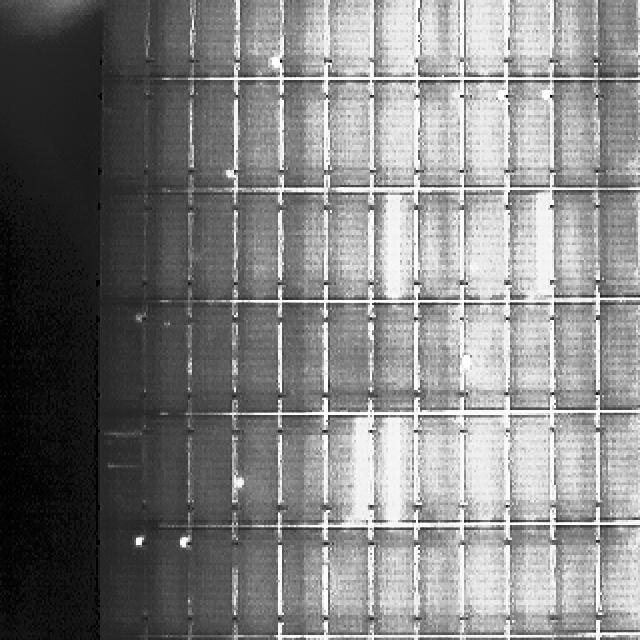Hotspots: (379, 416, 405, 530), (382, 188, 407, 306), (531, 190, 556, 299), (348, 416, 372, 527), (102, 456, 140, 474), (102, 426, 143, 442), (233, 472, 249, 495), (222, 164, 237, 182), (495, 88, 508, 104), (177, 534, 190, 550), (461, 351, 471, 371), (133, 534, 146, 549), (540, 90, 552, 103), (272, 56, 282, 71), (133, 312, 144, 325), (161, 319, 174, 328)
PV-modules: (415, 303, 465, 416), (234, 414, 283, 525), (100, 525, 149, 636), (141, 304, 189, 417), (232, 82, 281, 192), (278, 304, 326, 416), (186, 528, 235, 636), (550, 82, 598, 192), (550, 413, 598, 523), (278, 82, 326, 192), (505, 526, 553, 636), (144, 81, 191, 193), (505, 189, 552, 301), (188, 305, 235, 417), (550, 190, 598, 299), (235, 192, 283, 301), (414, 526, 462, 635), (415, 190, 462, 301), (235, 305, 282, 416), (191, 82, 238, 193), (550, 304, 598, 412), (278, 192, 326, 300), (414, 414, 462, 522), (278, 415, 325, 525), (143, 192, 190, 302), (141, 414, 188, 524), (188, 415, 235, 525), (462, 526, 509, 636), (143, 525, 190, 635), (462, 189, 508, 301), (278, 529, 326, 636), (100, 194, 147, 303), (369, 190, 415, 301), (326, 305, 372, 416), (504, 82, 551, 190), (551, 526, 598, 634), (415, 82, 462, 190), (232, 528, 279, 636), (462, 305, 509, 413), (326, 415, 372, 525), (102, 82, 148, 192), (100, 306, 146, 416), (189, 192, 235, 301), (506, 305, 552, 413), (505, 414, 551, 522), (327, 82, 372, 192), (369, 305, 414, 415), (464, 414, 510, 521), (374, 82, 419, 191), (373, 414, 418, 523), (326, 529, 372, 635), (464, 82, 509, 190), (327, 192, 372, 300), (373, 528, 418, 634), (598, 80, 640, 192), (598, 410, 640, 520), (598, 188, 640, 298), (598, 525, 640, 633), (600, 302, 640, 412), (102, 0, 150, 80), (326, 0, 372, 82), (278, 0, 326, 78), (506, 0, 554, 78), (190, 0, 238, 78), (370, 0, 416, 80), (238, 0, 284, 80), (550, 0, 596, 78), (416, 0, 462, 78), (460, 0, 506, 78), (148, 0, 194, 78), (598, 0, 640, 80), (100, 461, 145, 529), (101, 421, 145, 464)
